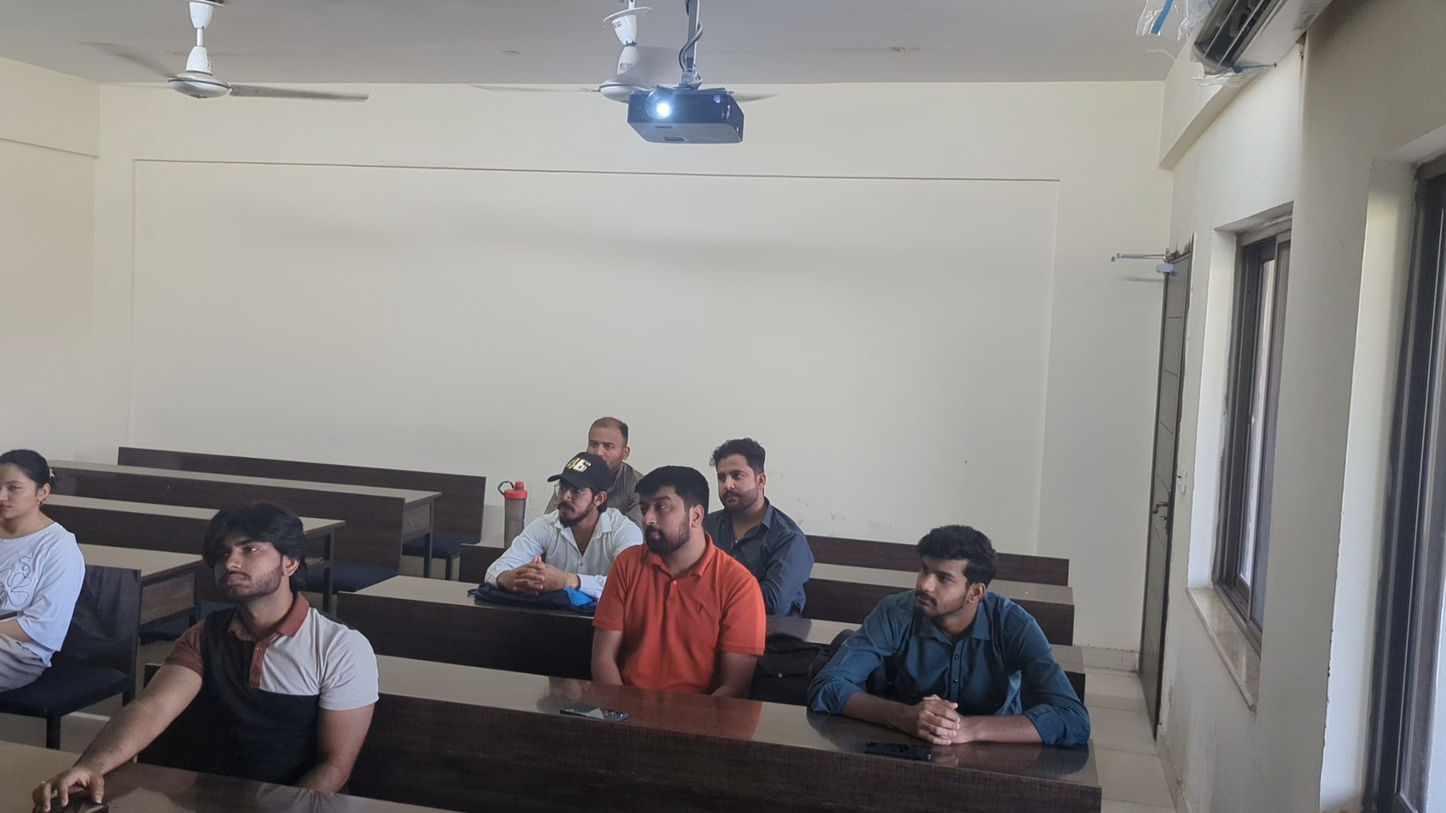look_forward: (31, 499, 377, 805), (808, 524, 1091, 747), (596, 461, 757, 695), (501, 442, 630, 596), (722, 427, 813, 590), (585, 415, 633, 467)
